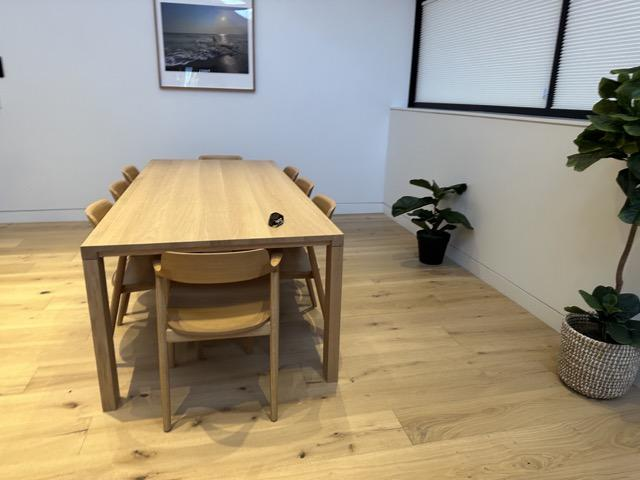Sunglasses: (266, 211, 286, 227)
